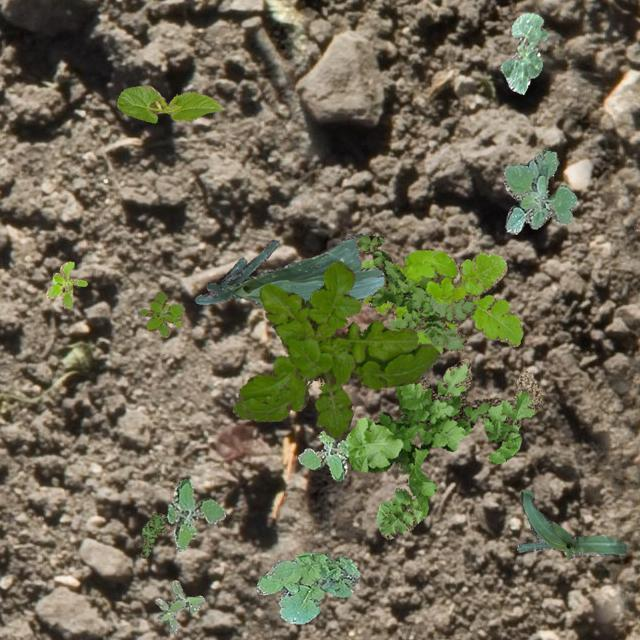crop: (194, 232, 384, 306), (516, 490, 626, 560), (116, 84, 222, 122), (499, 12, 546, 94)
weed: (232, 260, 438, 440), (344, 358, 542, 538), (359, 248, 522, 352), (354, 234, 474, 350), (255, 552, 358, 622), (502, 150, 576, 232), (166, 478, 224, 550), (154, 578, 202, 634), (297, 430, 348, 480), (140, 290, 183, 336), (44, 260, 86, 306), (140, 512, 164, 556)
